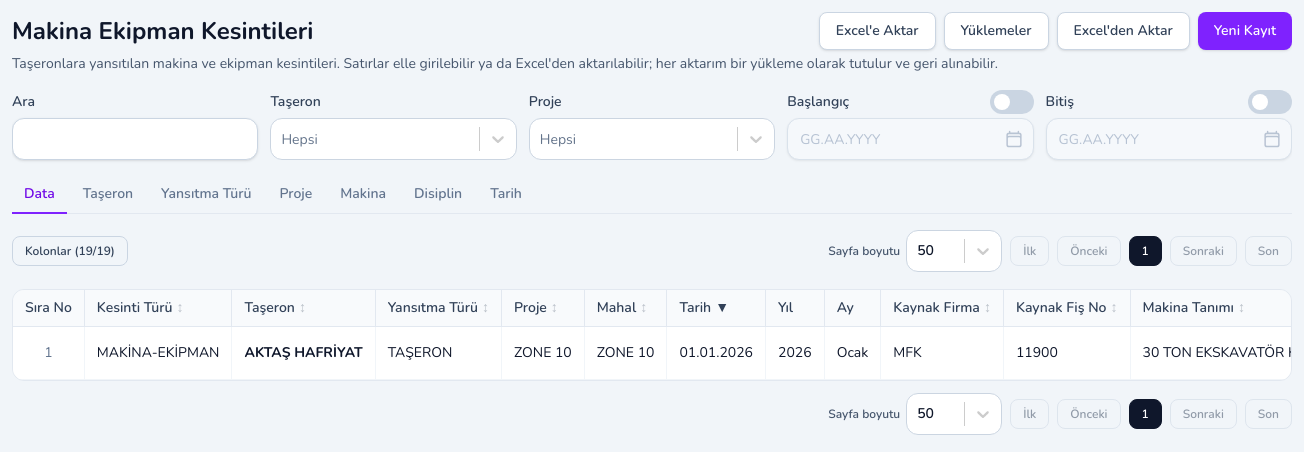
Test: MakinaEkipmanKesintileriPage › özet sekmeleri: Makina sekmesi makina tanımına göre gruplar, yalnız tutarları toplar
expect the text "30 TON EKSKAVATÖR KOVALI" is shown: met, box [1142,343,1292,362]
Click the tab "Makina" at (363, 195), box [328,176,398,214]
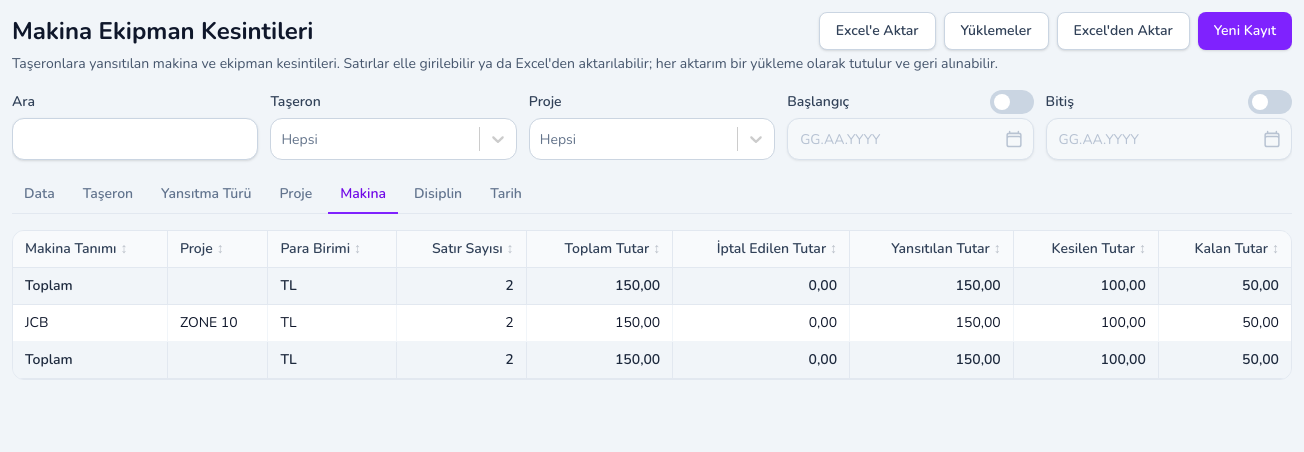
expect the text "JCB" is shown: met, box [25,313,48,332]
